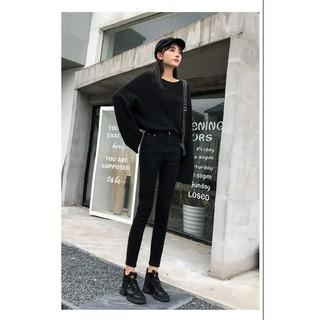pants: (132, 133, 180, 270)
sweater: (111, 71, 194, 146)
